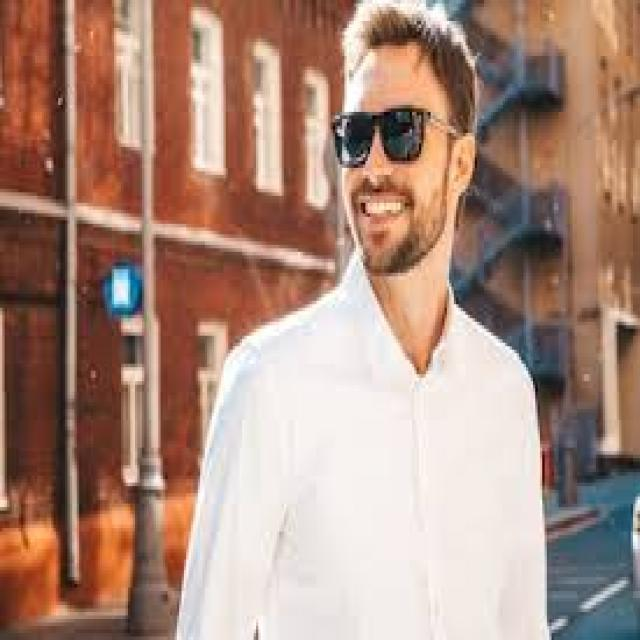2_gafas: (336, 103, 455, 167)
